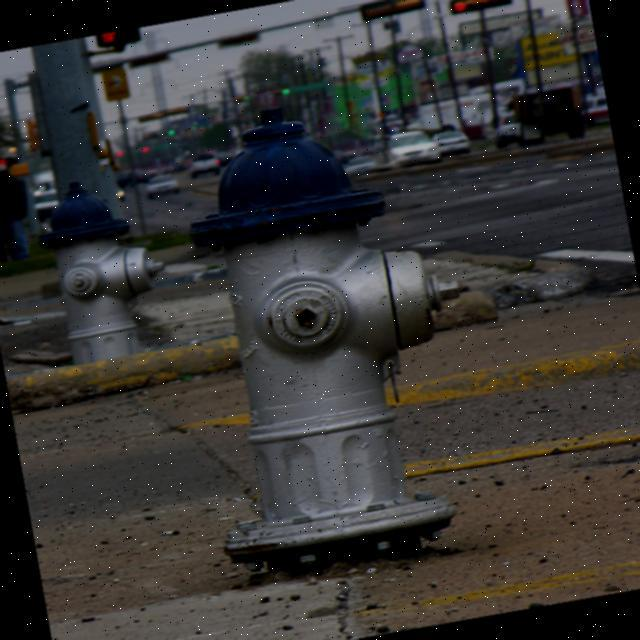fire_hydrant: (145, 77, 502, 584), (30, 166, 177, 366)
